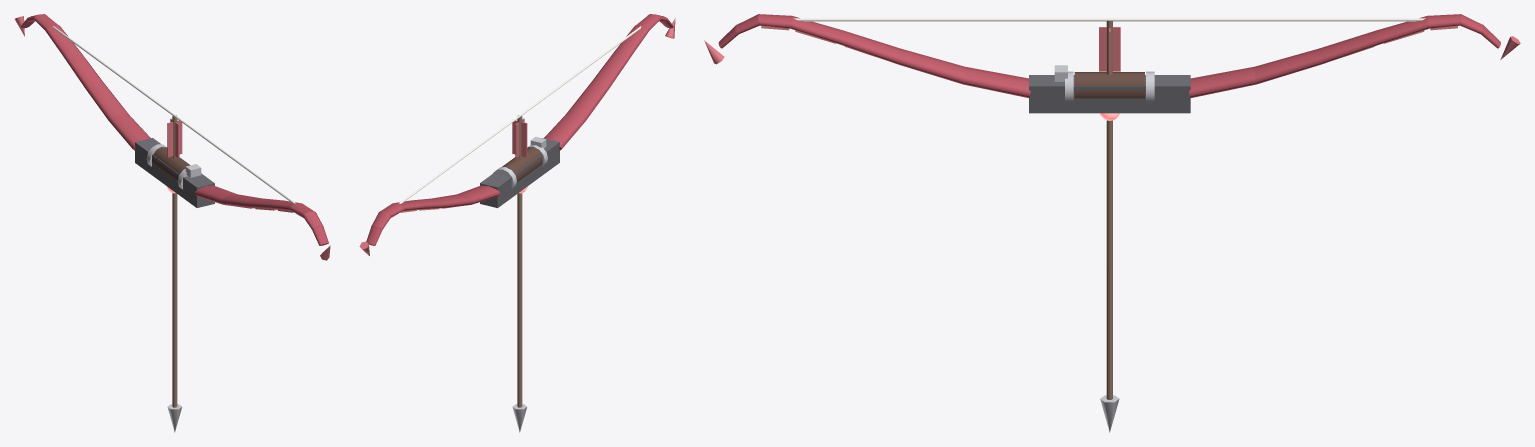
File: ash_left.glb
The picture shows the model from 3 angles, left to right: view 1: azimuth 30°, elevation 25°; view 2: azimuth 150°, elevation 25°; view 3: azimuth 270°, elevation 25°; orthographic projection. The views are drawn at different scales.
Visible parts, largest first — view 1: ash_left; view 2: ash_left; view 3: ash_left.
Part boxes in pixels (bbox=[...]): ash_left: bbox=[14, 14, 330, 432]; ash_left: bbox=[359, 14, 675, 432]; ash_left: bbox=[704, 14, 1520, 432].
Size of the model in its own units: 0.0646 by 0.8529 by 1.51.
